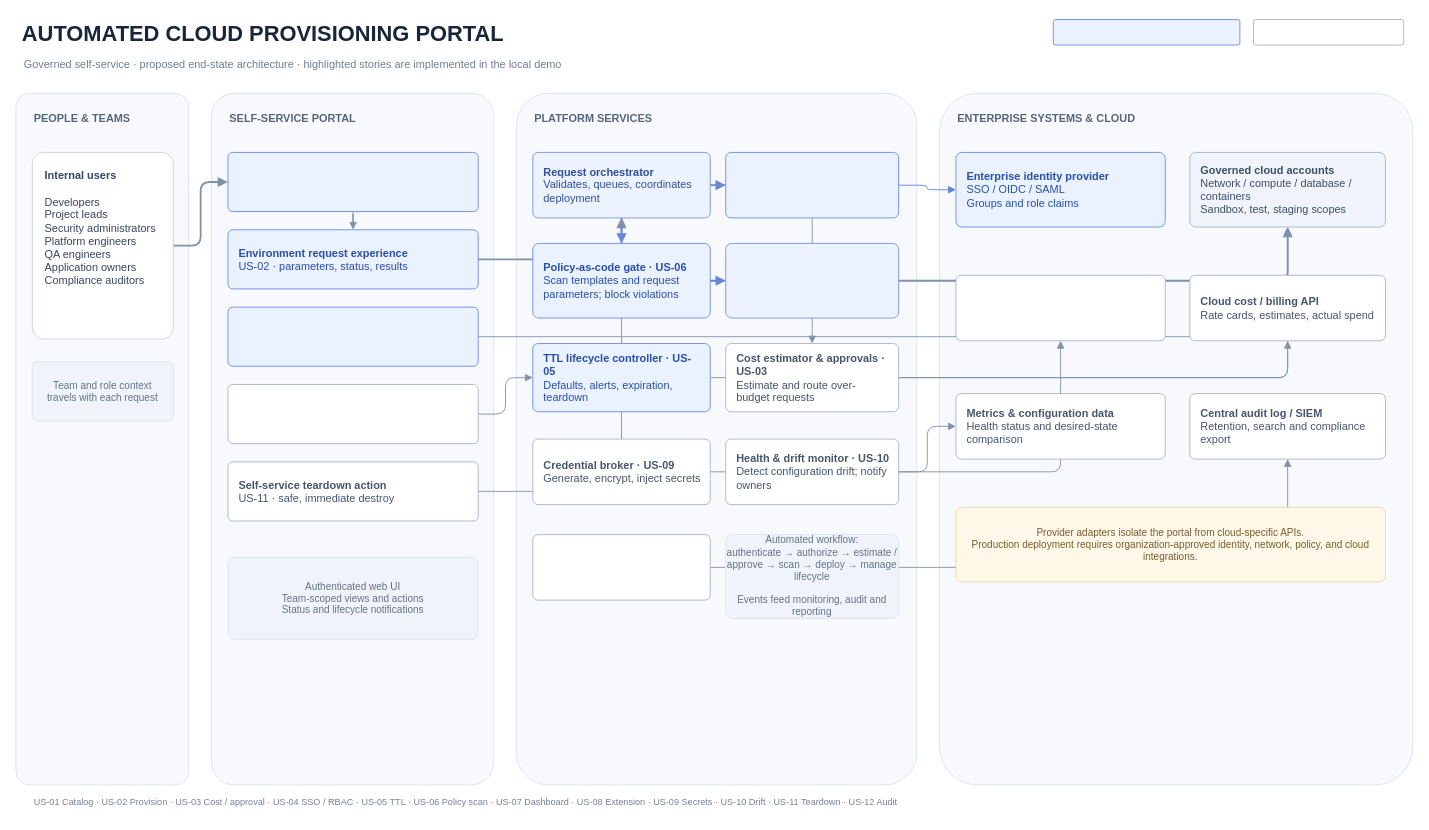
Image size: 1429x830. Some labels were removed from this diagram. Each missing label, with the centre of its shape:
Audit event service · US-12 Record request, approval, change, delete: point 621,567
Catalog & blueprint selection US-01 · approved templates: point 352,182
Enterprise secrets vault Encrypted credentials and access: point 1060,307
Environment extension workflow US-08 · request a 7-day extension: point 352,414
FUTURE BACKLOG STORY: point 1328,32
IaC template runner Versioned, approved infrastructure blueprints: point 812,280
Identity & access gateway · US-04 Enterprise SSO · RBAC · team boundaries: point 812,185
Resource dashboard US-07 · cost, health, owner, status: point 352,336
TOP 5 · IMPLEMENTED DEMO STORY: point 1146,32
